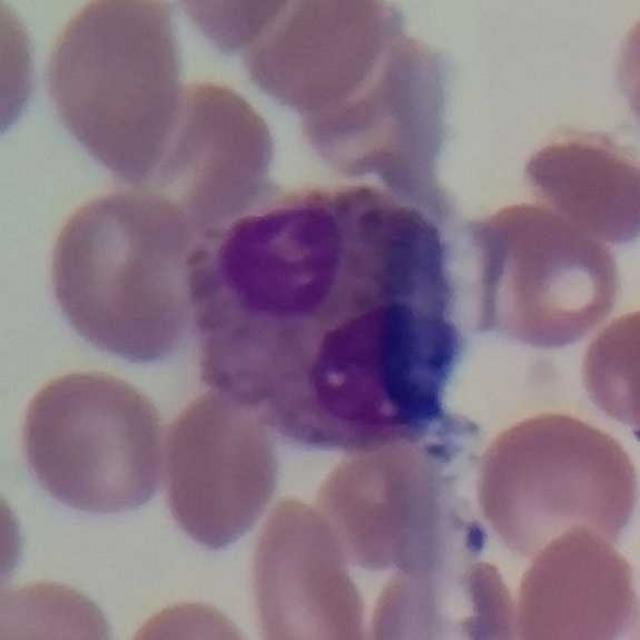Eosinophil: (187, 181, 478, 466)
Platelets: (459, 516, 493, 560)
RBC: (39, 183, 201, 370), (288, 18, 462, 189), (36, 0, 190, 187), (471, 404, 640, 567), (455, 197, 629, 355), (10, 363, 174, 527), (103, 73, 284, 215), (156, 376, 288, 558), (240, 491, 376, 640), (222, 0, 400, 112), (515, 119, 640, 245), (507, 522, 640, 640), (362, 551, 522, 639), (574, 300, 640, 450), (0, 572, 124, 640), (112, 591, 273, 640), (163, 0, 302, 53), (0, 0, 45, 158), (604, 0, 640, 158), (0, 468, 32, 620)
